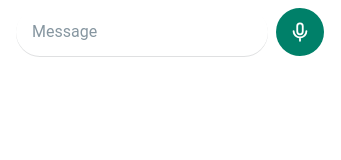
Test case: InputBar › shows the mic when empty and the send button when there is text
The image size is (341, 160).
expect the button named "Record a voice message" is shown: met, box [276, 8, 324, 56]
Type "  Hello Maa " into the field with placeholder "Message" at (142, 32), box [32, 20, 252, 44]
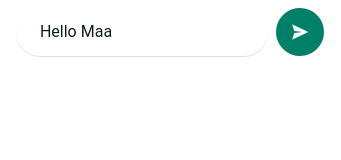
Click the button named "Send" at (300, 32), box [276, 8, 324, 56]
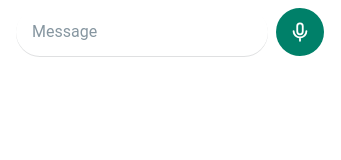
expect the button named "Record a voice message" is shown: met, box [276, 8, 324, 56]
